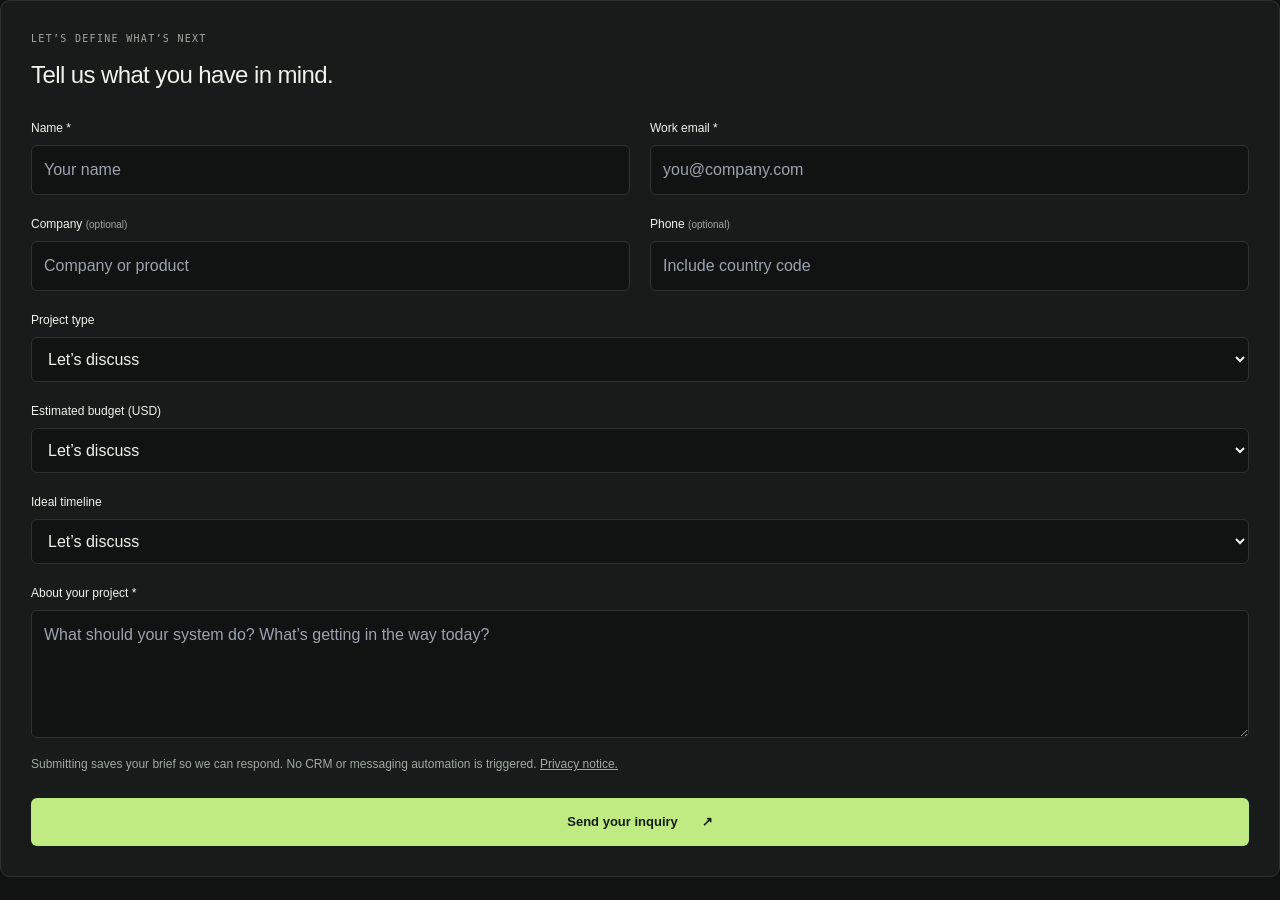
Test: submits and confirms a persisted inquiry
In the field labelled "Name *": (330, 170) left=31, top=145, right=630, bottom=195, type "Alex Example"
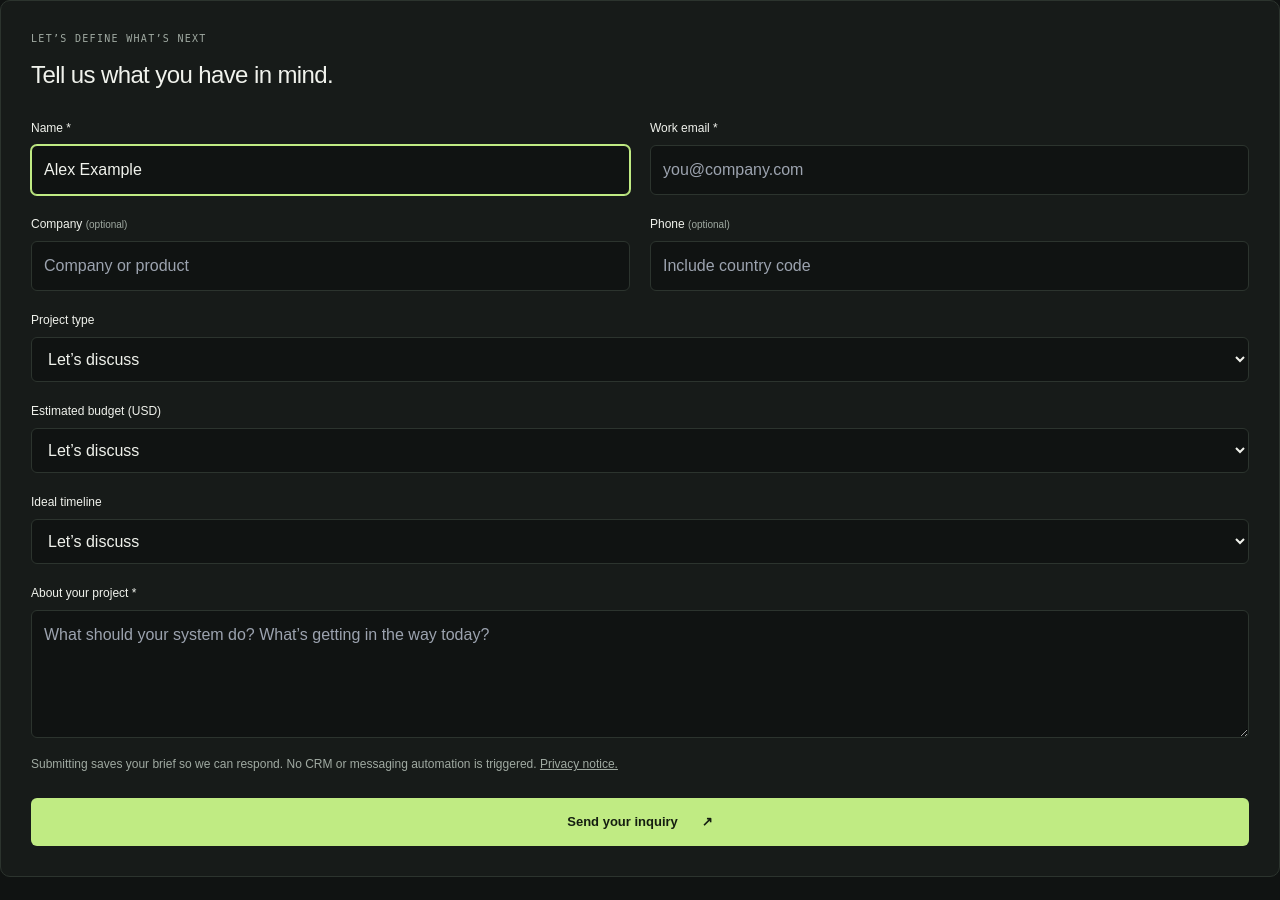
In the field labelled "Work email *": (950, 170) left=650, top=145, right=1249, bottom=195, type "alex@example.com"
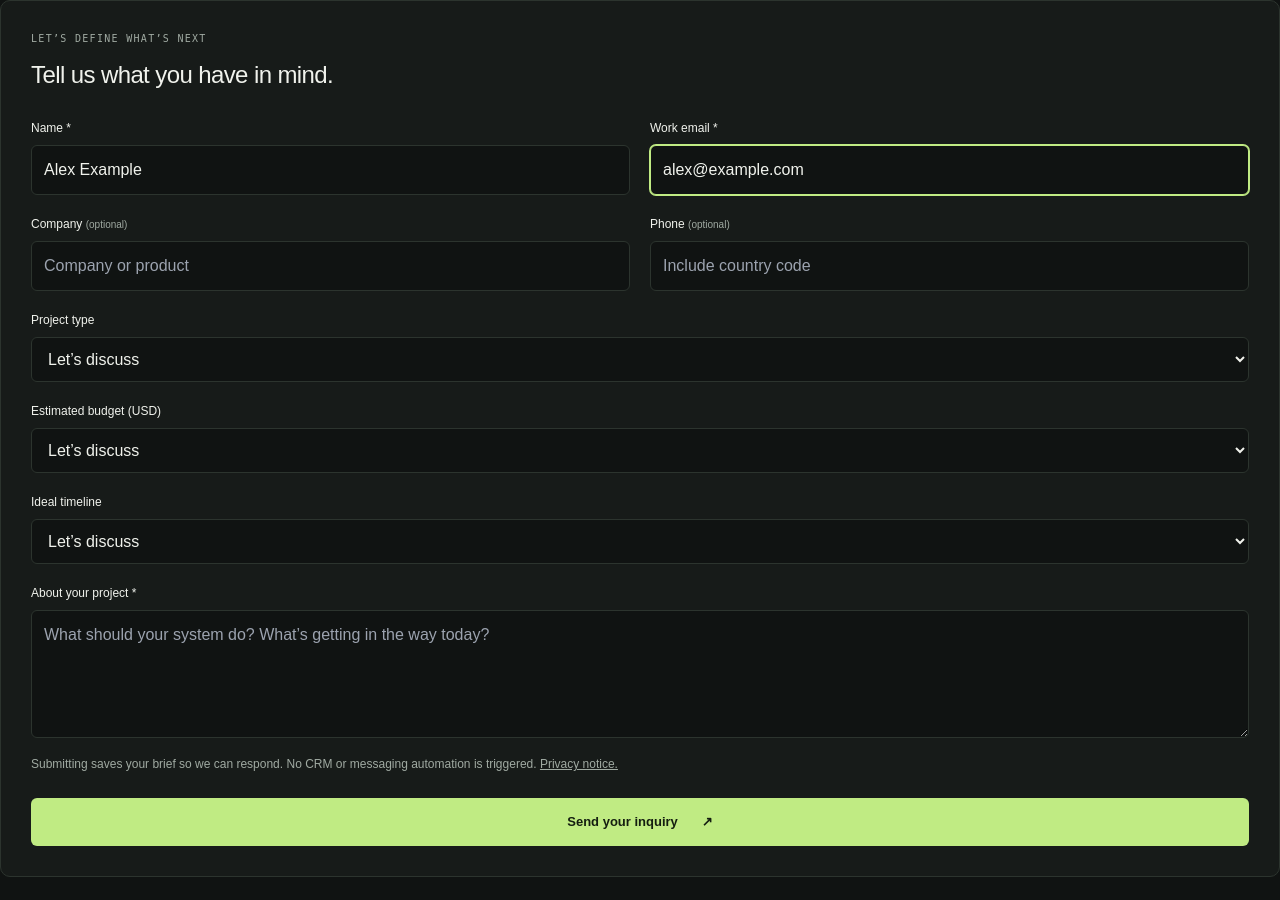
In the text box labelled "About your project *": (640, 674) left=31, top=610, right=1249, bottom=738, type "We need a new website for our business."
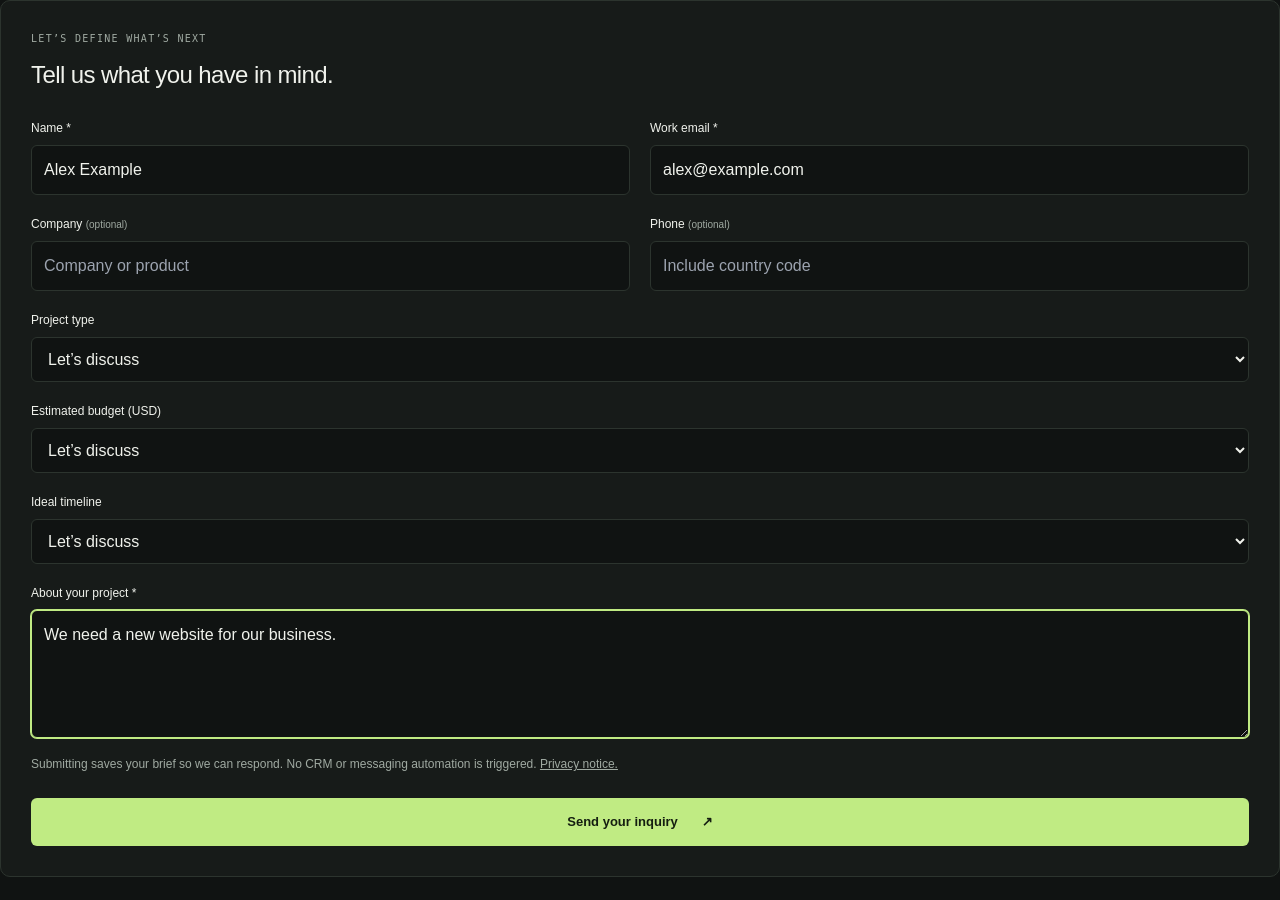
Click the button "Send your inquiry ↗": (640, 822) left=31, top=798, right=1249, bottom=846
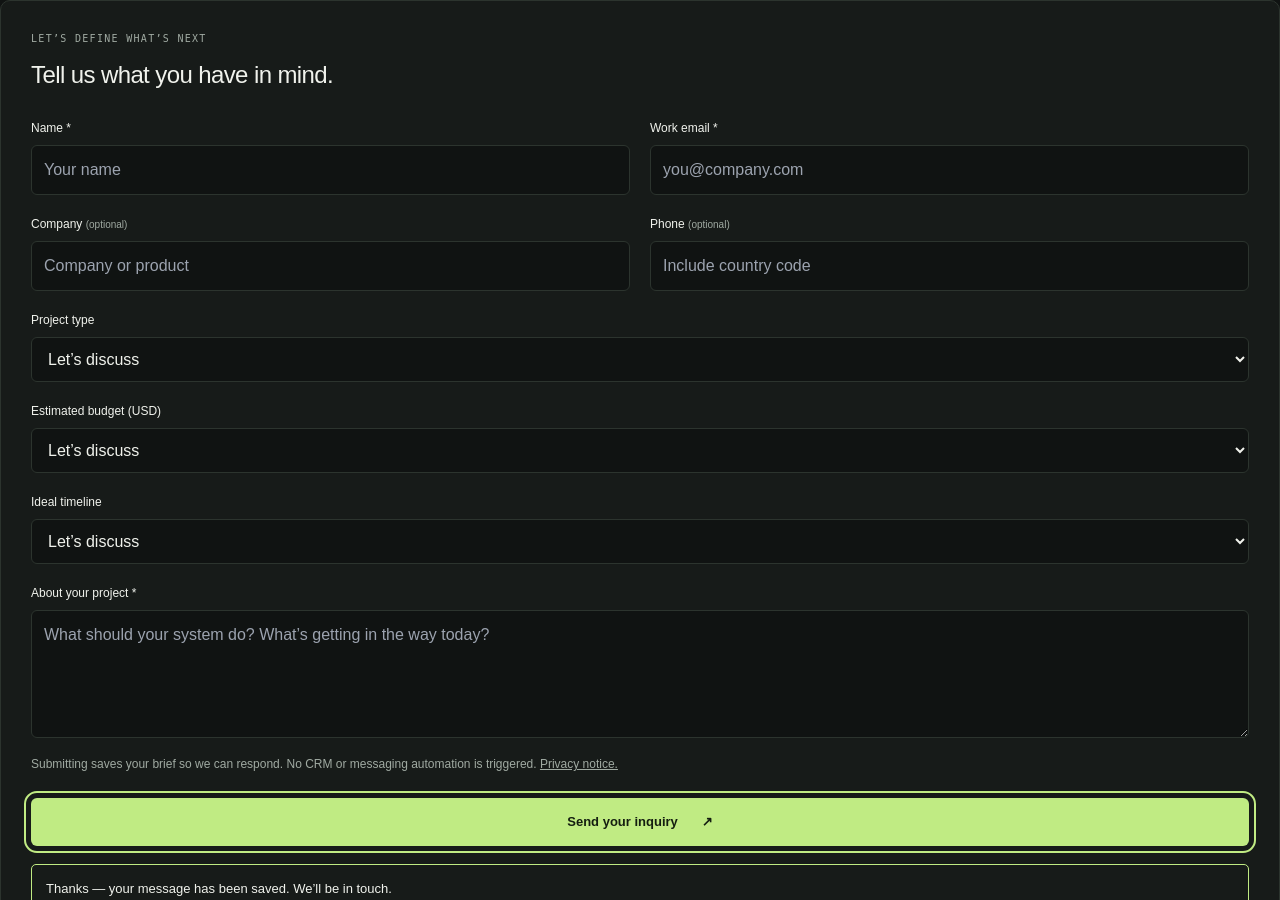
Check: the message shows "your message has been saved", box left=46, top=881, right=392, bottom=896
Check: the field labelled "Name *" is empty, box left=31, top=145, right=630, bottom=195
